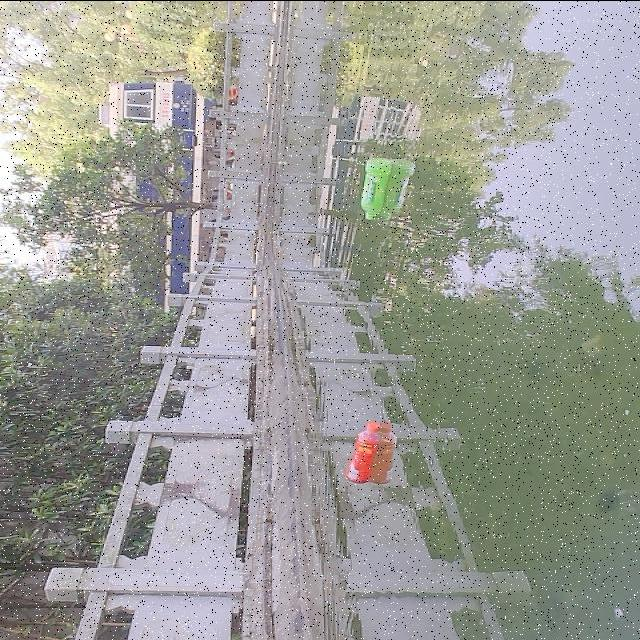Bottle: (341, 418, 391, 492), (359, 148, 404, 228)
